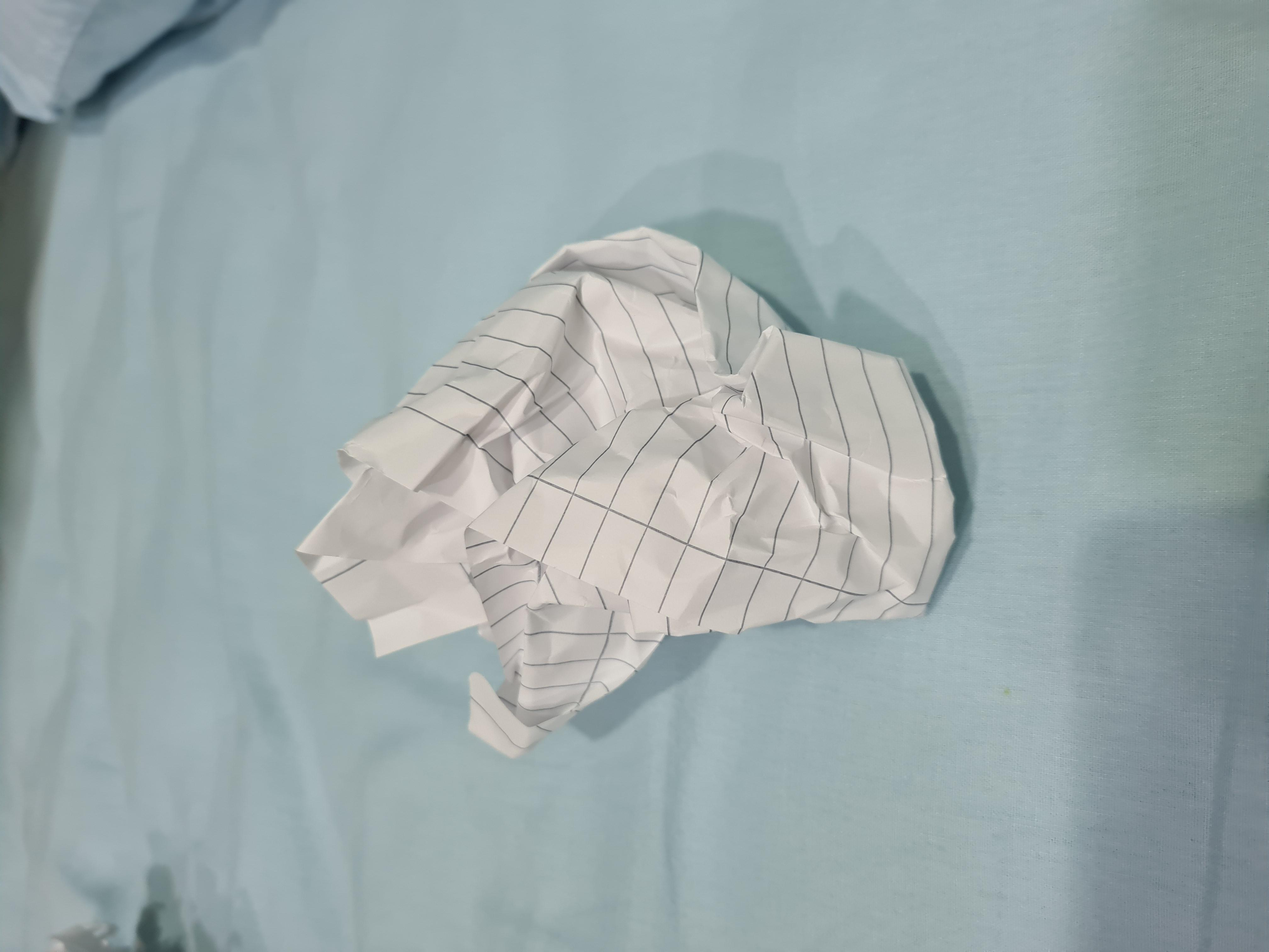paper: (266, 222, 970, 711)
